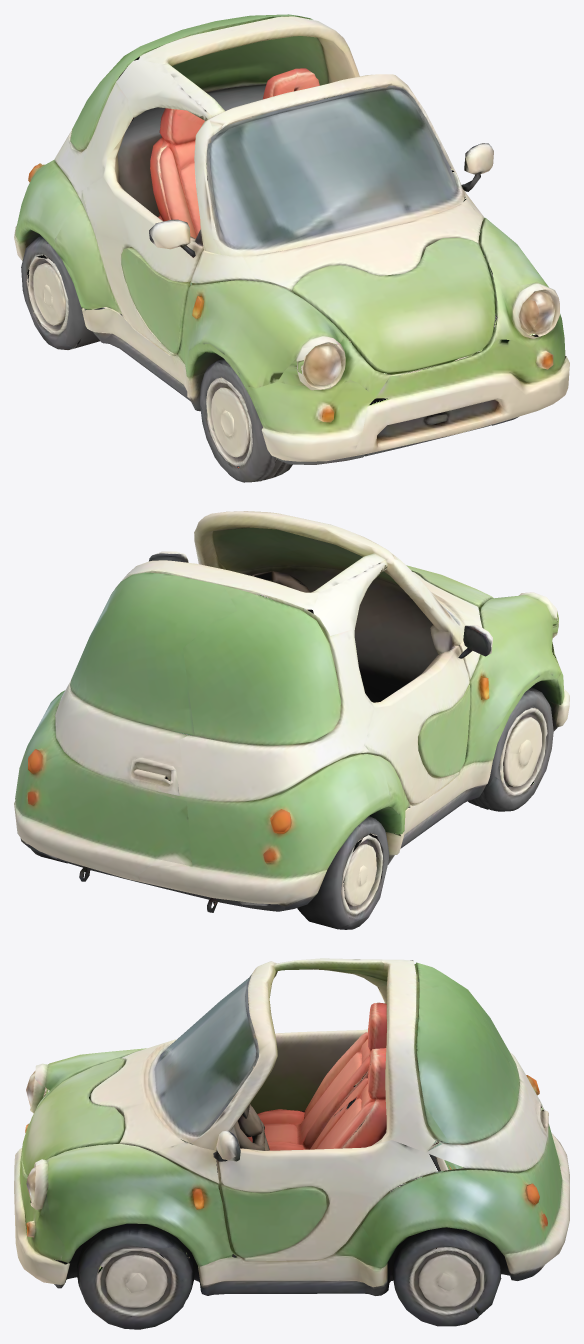
The model's file is sprout-mobile.glb.
The picture shows the model from 3 angles, top to bottom: view 1: azimuth 30°, elevation 25°; view 2: azimuth 150°, elevation 25°; view 3: azimuth 270°, elevation 25°; orthographic projection. The views are drawn at different scales.
Parts seen in each view (by area): view 1: model; view 2: model; view 3: model.
Boxes of the visible parts, left/top/right/bottom form: model: left=14, top=14, right=569, bottom=482; model: left=14, top=511, right=569, bottom=929; model: left=14, top=958, right=569, bottom=1329.
Bounding box in the file's own units: 1.23 × 1.05 × 1.89.
1 material, 1 textured.
